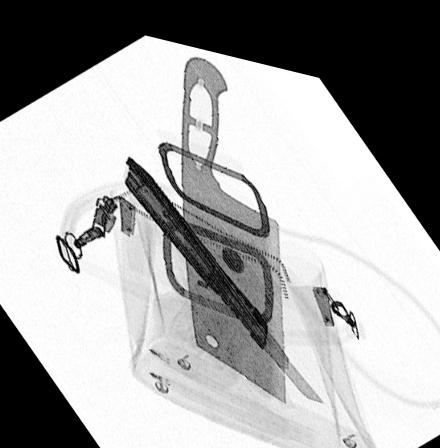Knife: (123, 149, 324, 389), (180, 47, 286, 392)
